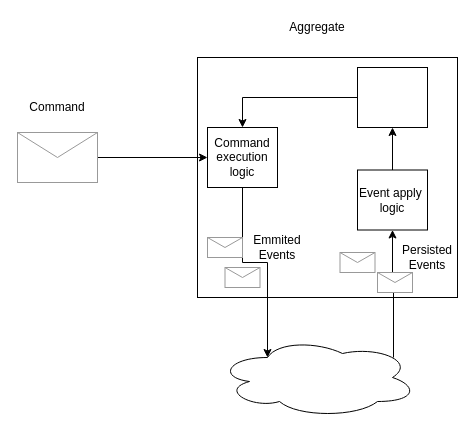
The diagram is 475 pixels wide and 435 high, and some of its shapes have lost their labels. The shapes that lost their labels are listed below. From the top down, each one's centre as x and y in pixels, then its label:
point 392,97: Internal State
point 317,377: Persistence
